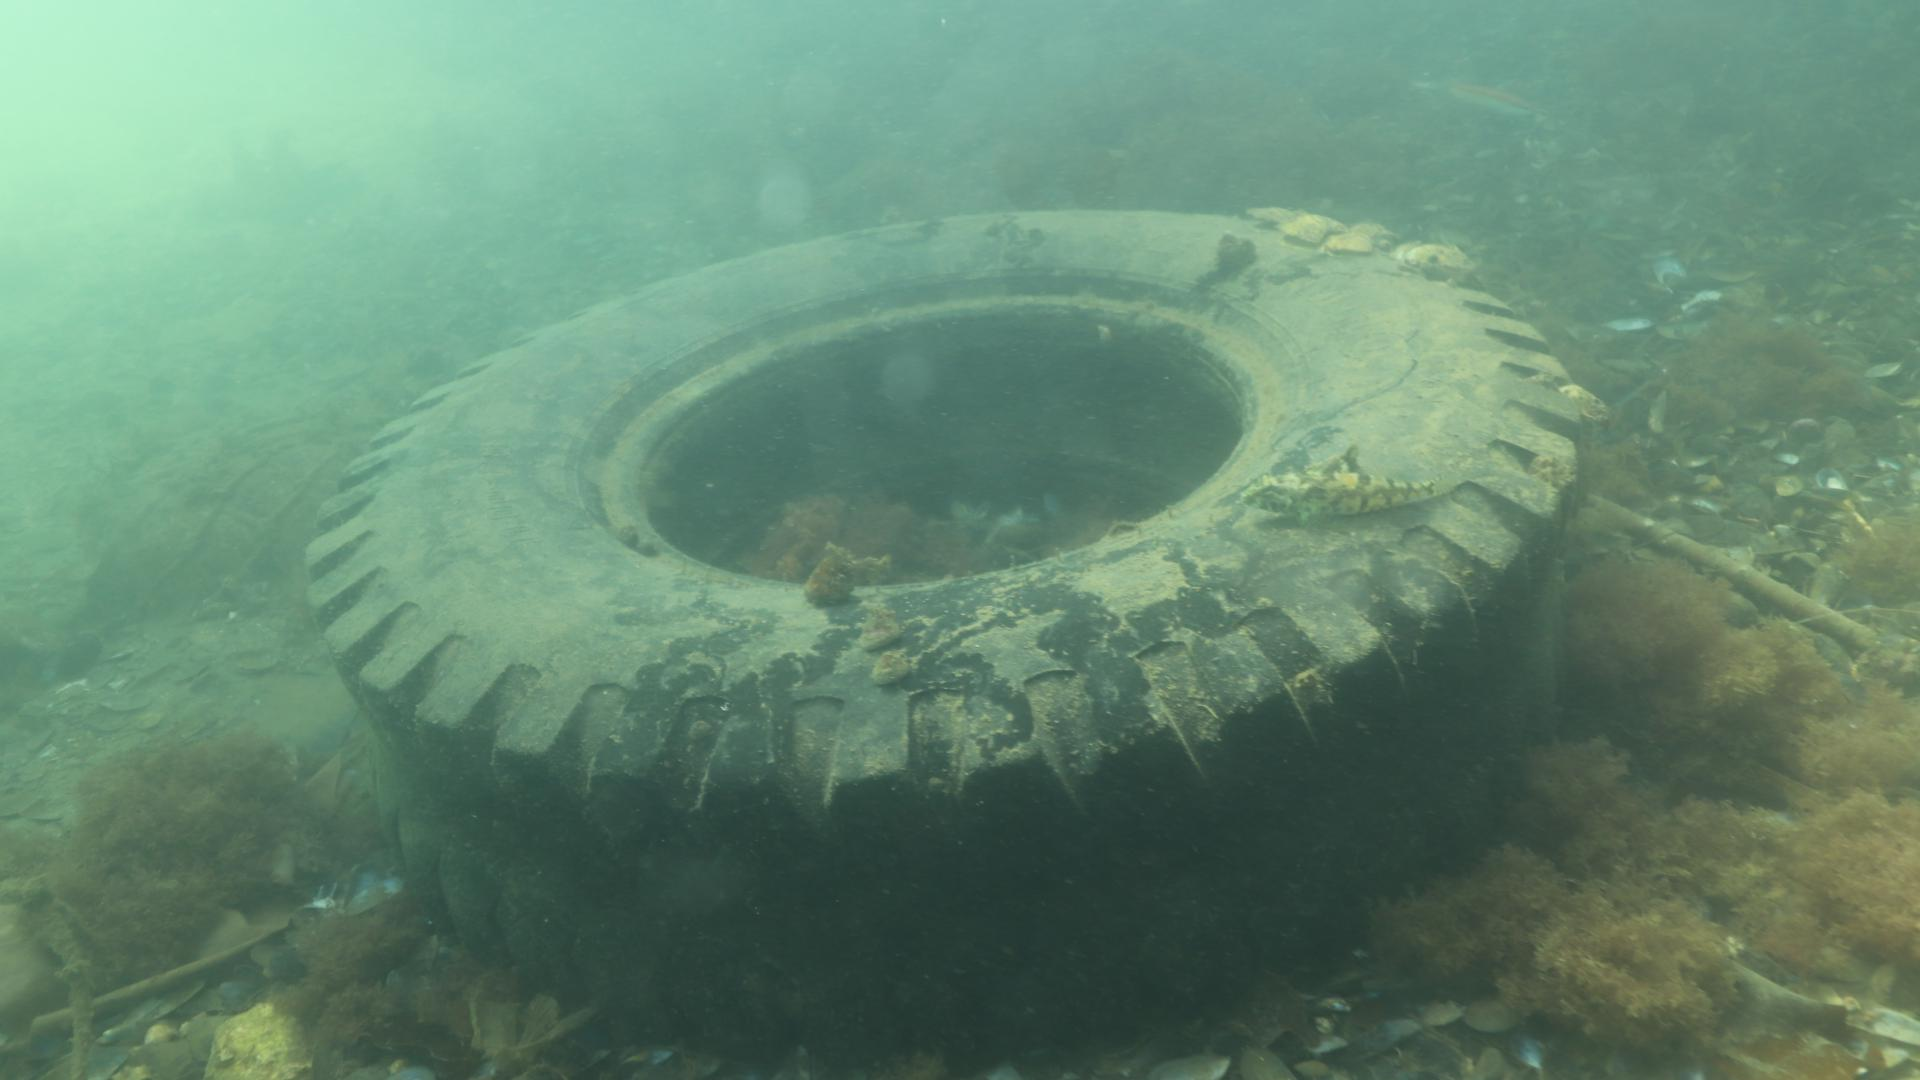tire: (303, 208, 1582, 1048)
